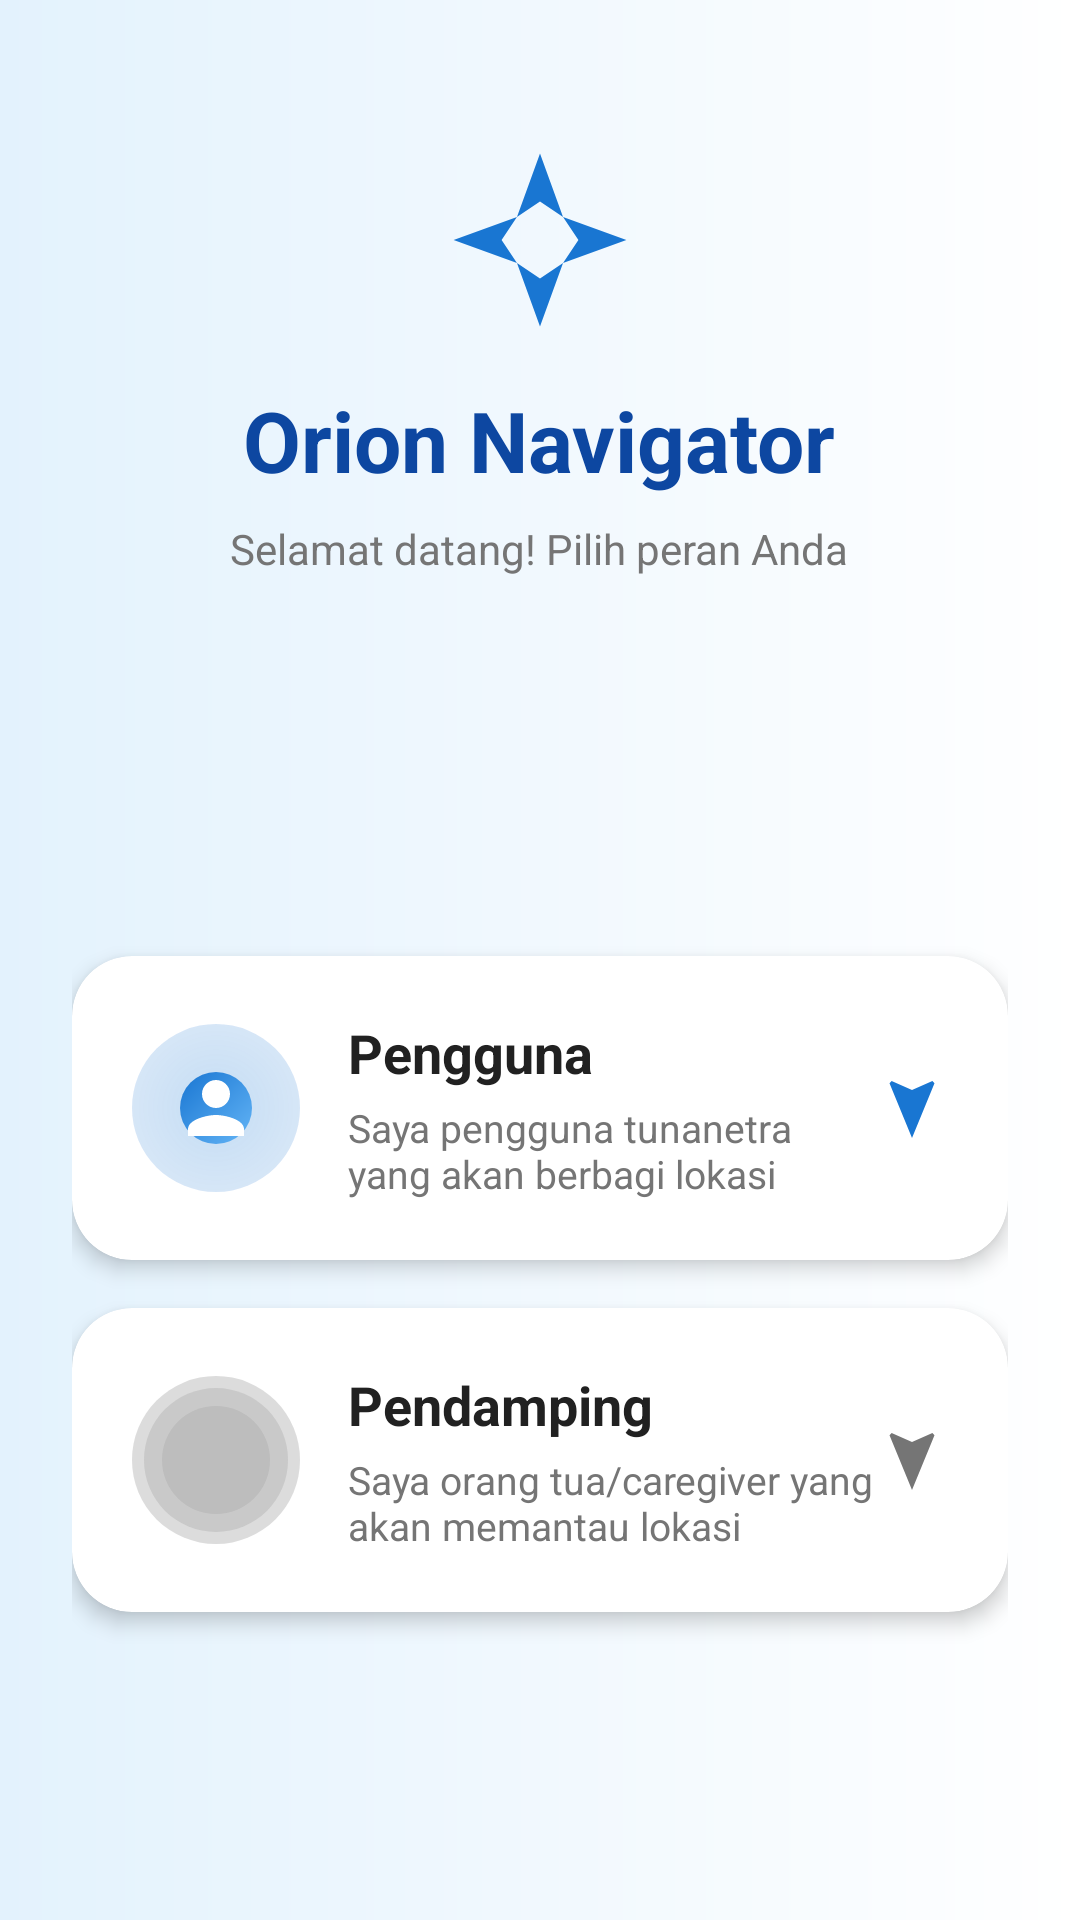

Where icons sit on this 1080px×1920px app screen, as rect(x1, y1, x2, y2):
person: rect(180, 1072, 252, 1144)
